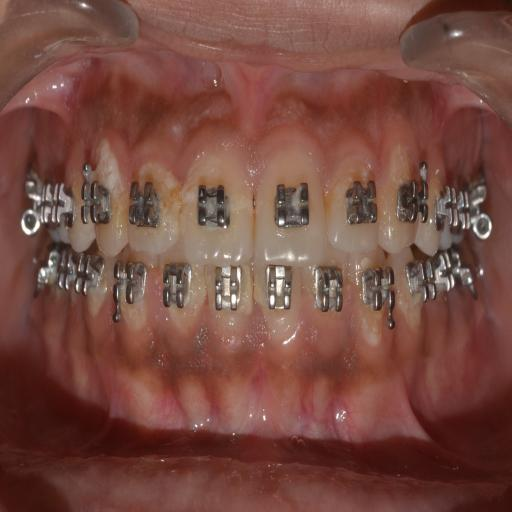correct_brace: (191, 177, 235, 231), (342, 174, 380, 236), (271, 179, 316, 230), (126, 175, 166, 232)
incorrect_brace: (120, 156, 180, 258), (327, 162, 382, 260)
